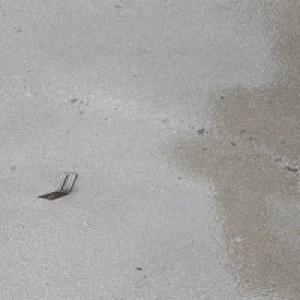MetalPart: (35, 171, 77, 200)
